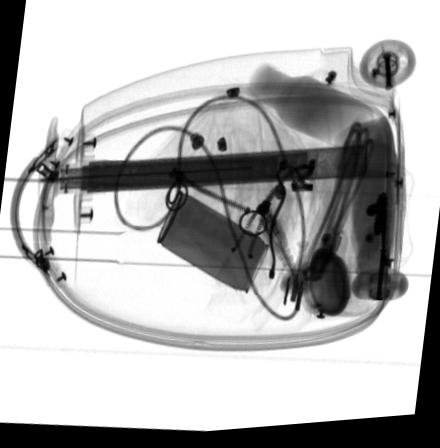Gun: (364, 199, 387, 275)
